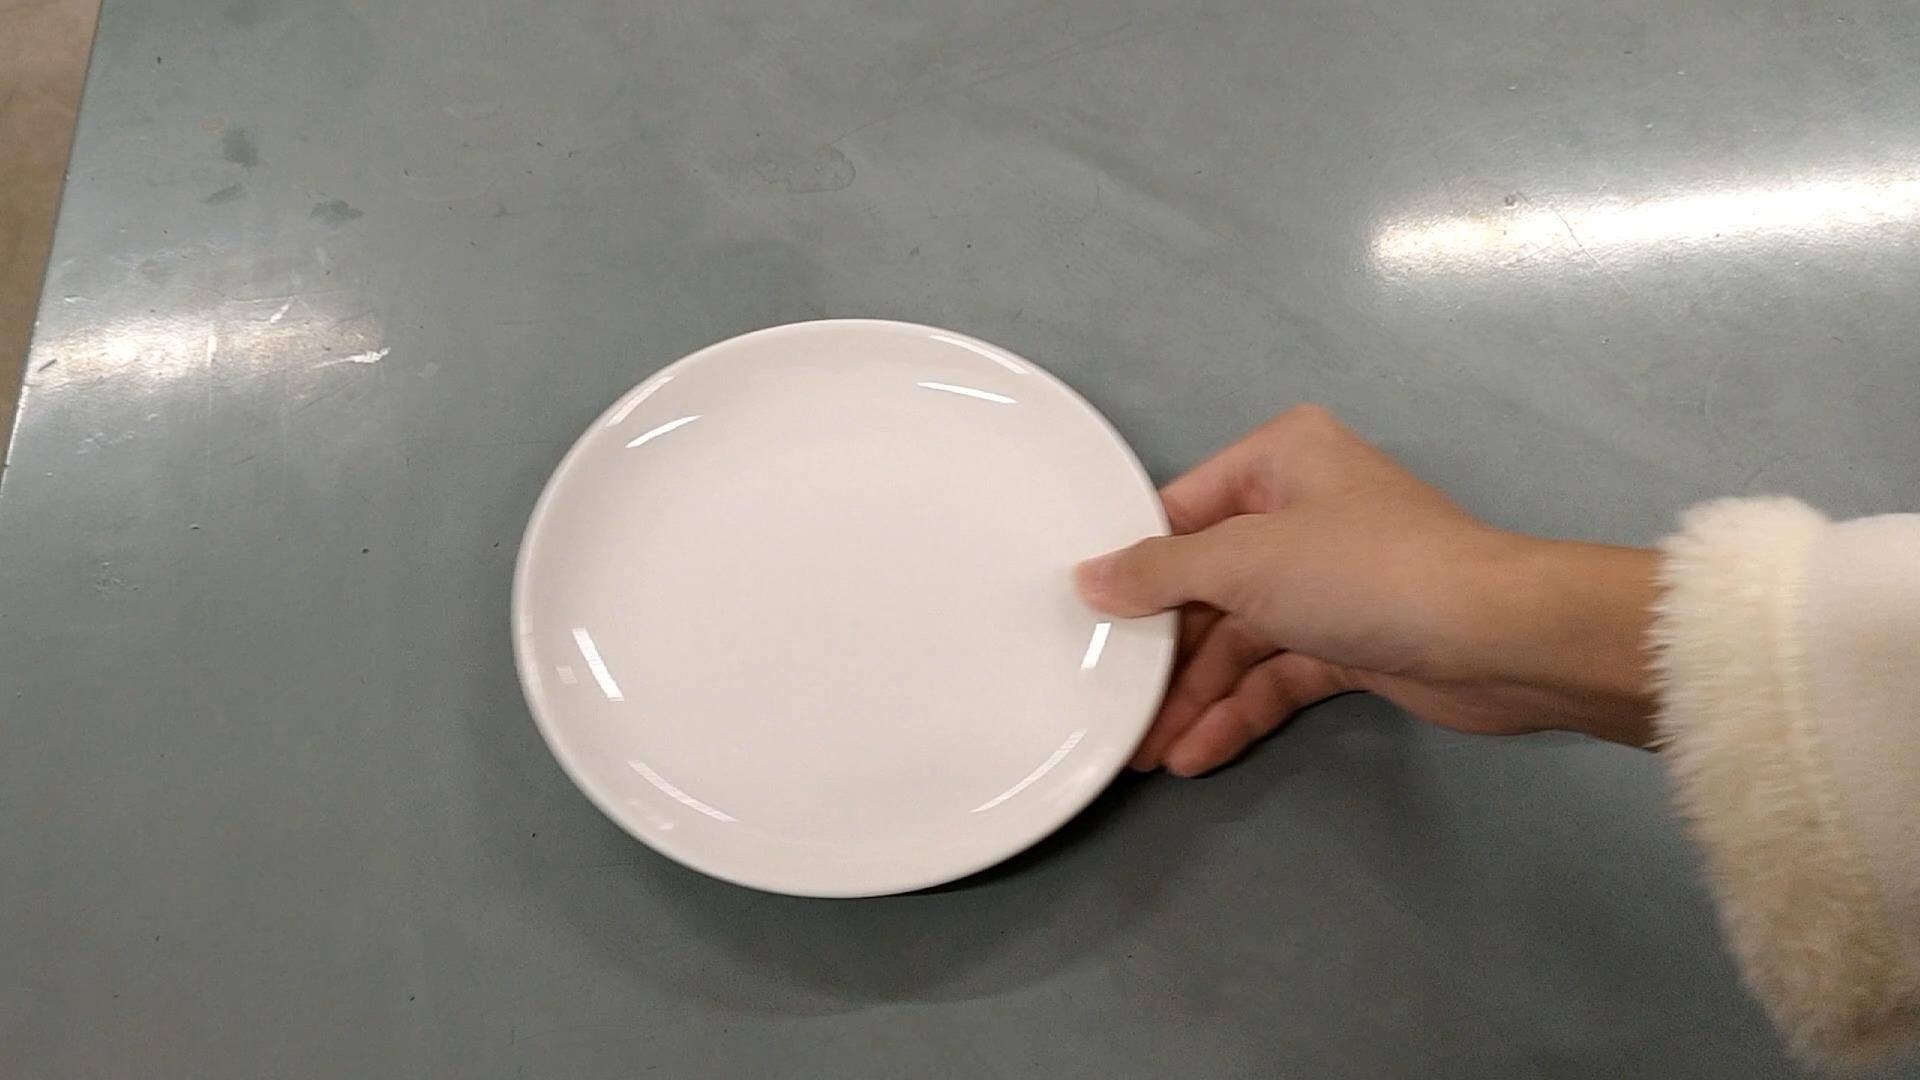plate: (516, 315, 1178, 899)
